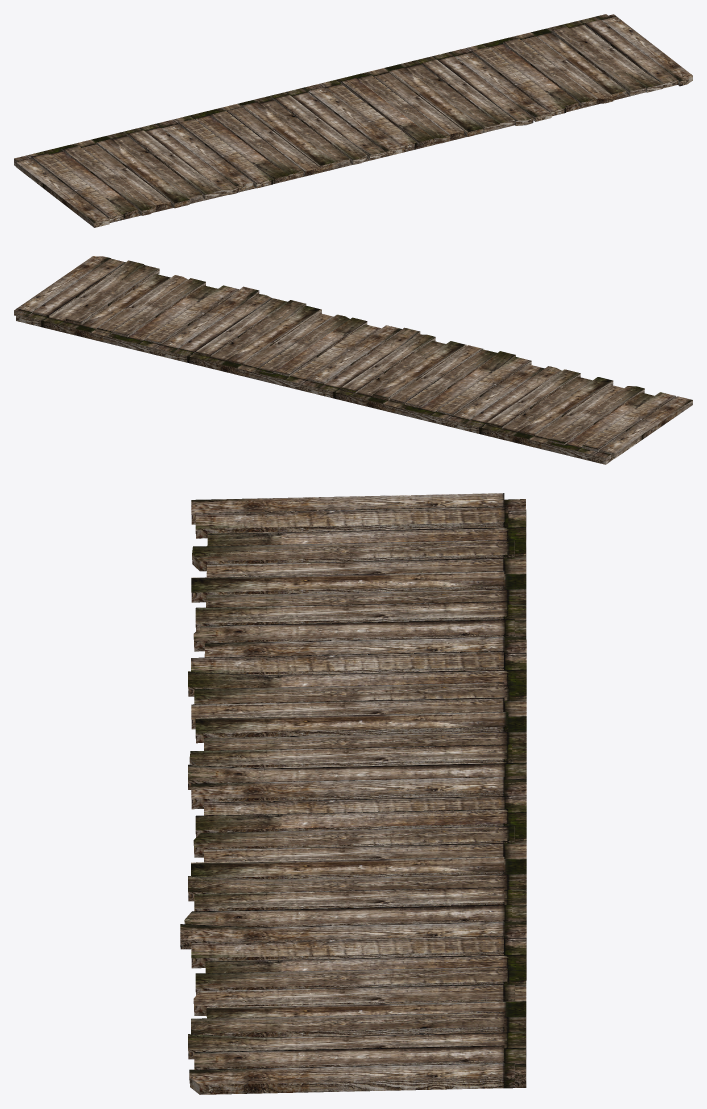
File: porchFloor_01_LOD1.FBX
The picture shows the model from 3 angles, top to bottom: view 1: azimuth 30°, elevation 25°; view 2: azimuth 150°, elevation 25°; view 3: azimuth 270°, elevation 25°; orthographic projection. The views are drawn at different scales.
Parts seen in each view (by area): view 1: porchFloor_01_LOD1; view 2: porchFloor_01_LOD1; view 3: porchFloor_01_LOD1.
Part boxes in pixels (x1,y1,x2,y2): porchFloor_01_LOD1: [14, 14, 692, 227]; porchFloor_01_LOD1: [14, 256, 692, 464]; porchFloor_01_LOD1: [180, 493, 526, 1094].
Size of the model in its own units: 45.06 by 0.8894 by 11.3.
Materials: 1 (1 with a texture image).
